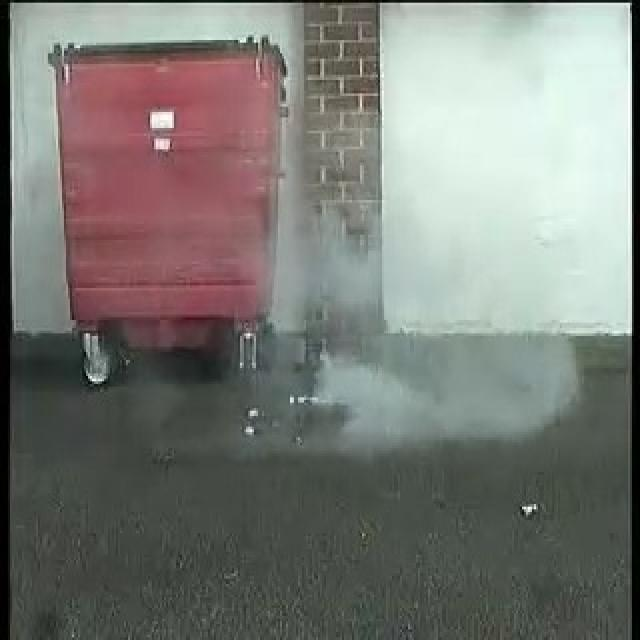smoke: (275, 203, 438, 442)
